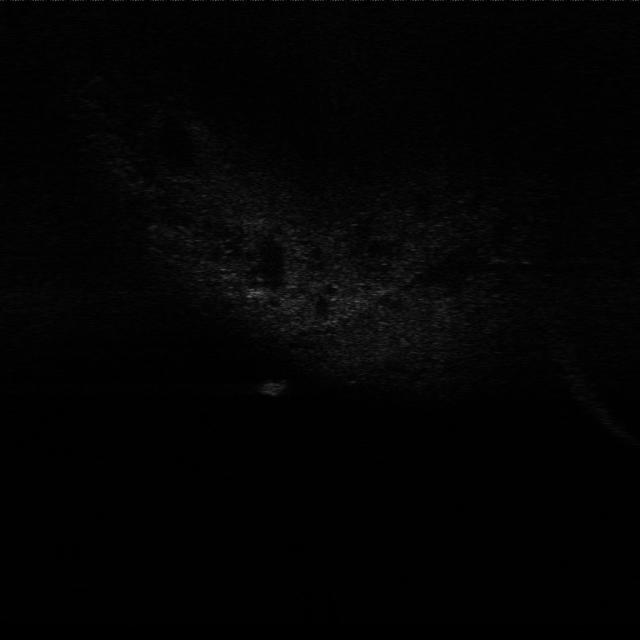cube: (256, 373, 292, 399)
